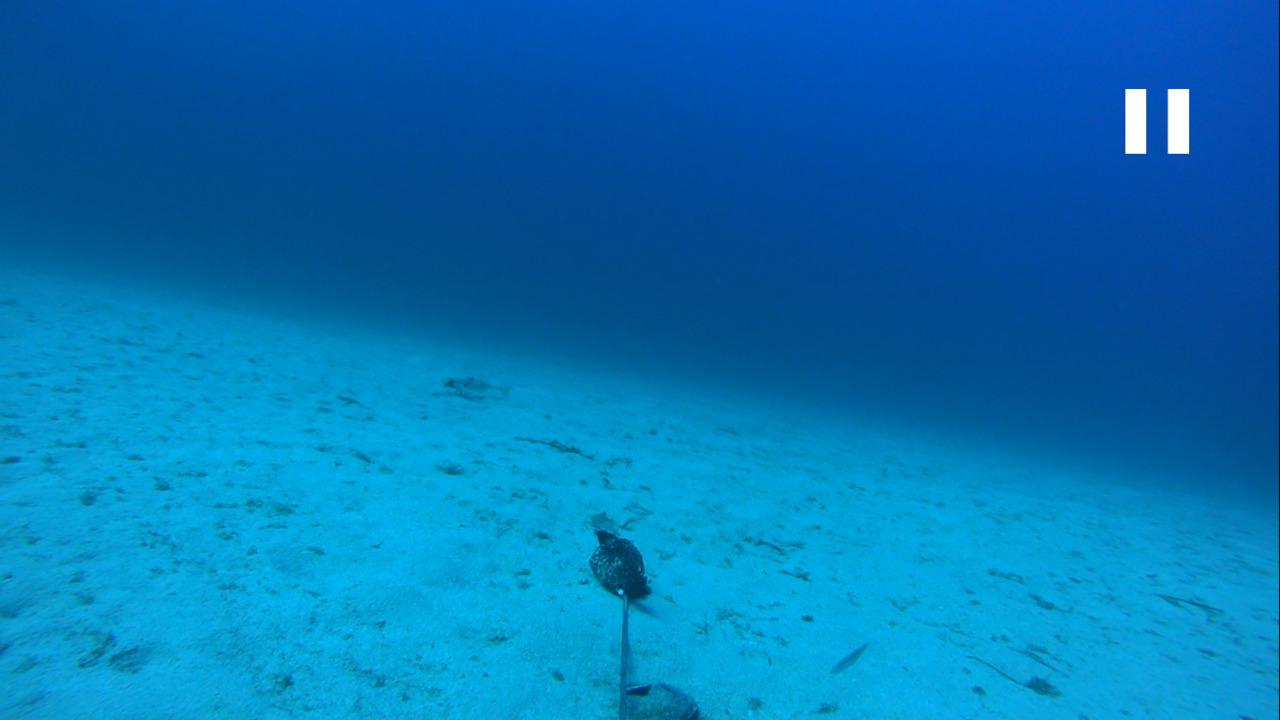dactylopterus: (430, 370, 525, 412)
